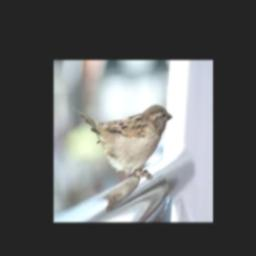Sparrow: (77, 105, 173, 179)
